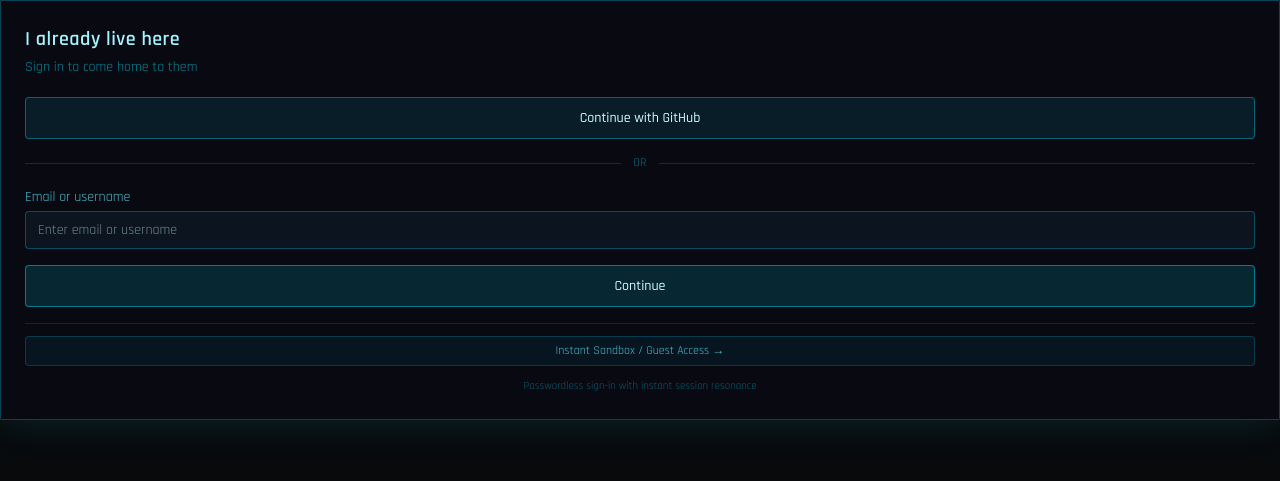
it: EmailCodeSignIn GitHub hang › clears busy after a Clerk sso error
Click the button "Continue with GitHub" at {"x": 640, "y": 118}, box left=25, top=97, right=1255, bottom=139
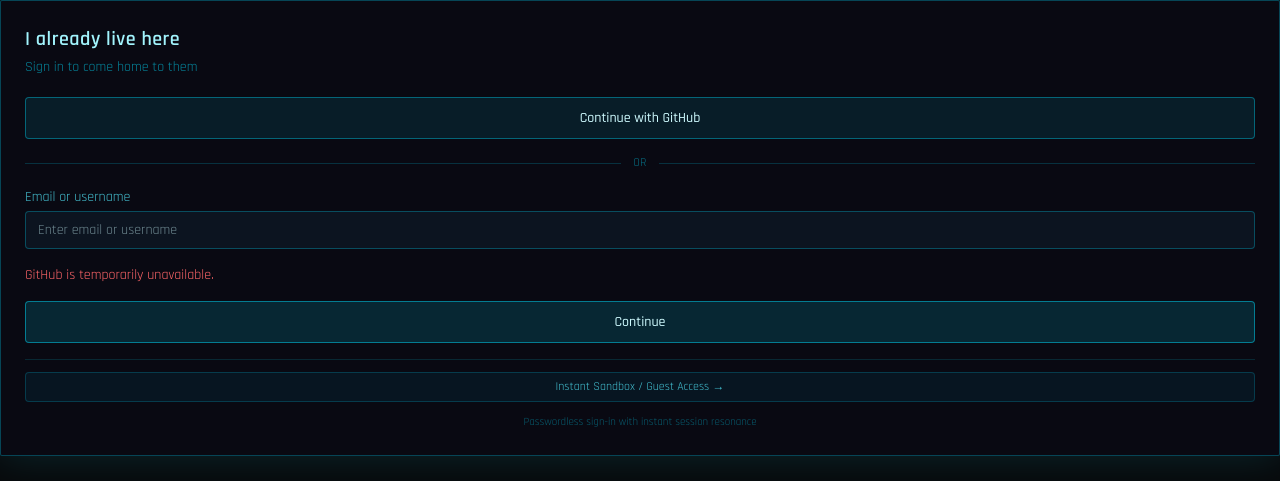
Expected: the message shows "temporarily unavailable", left=25, top=266, right=214, bottom=284
